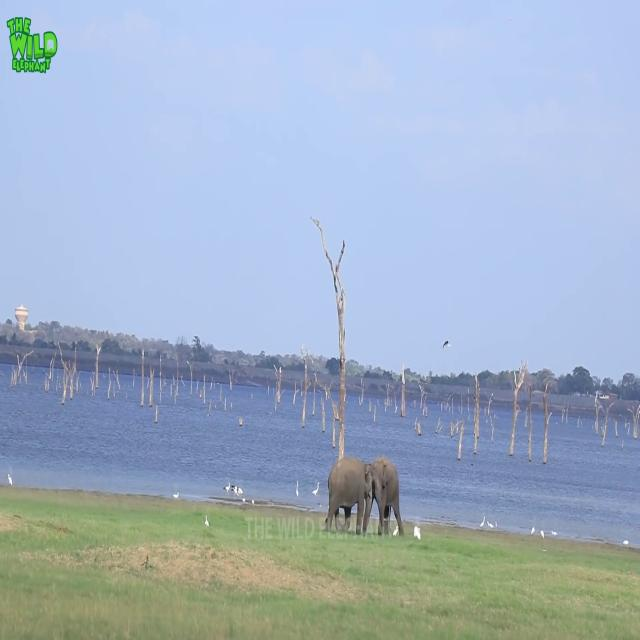Elephant: (324, 456, 373, 534), (363, 456, 404, 537)
